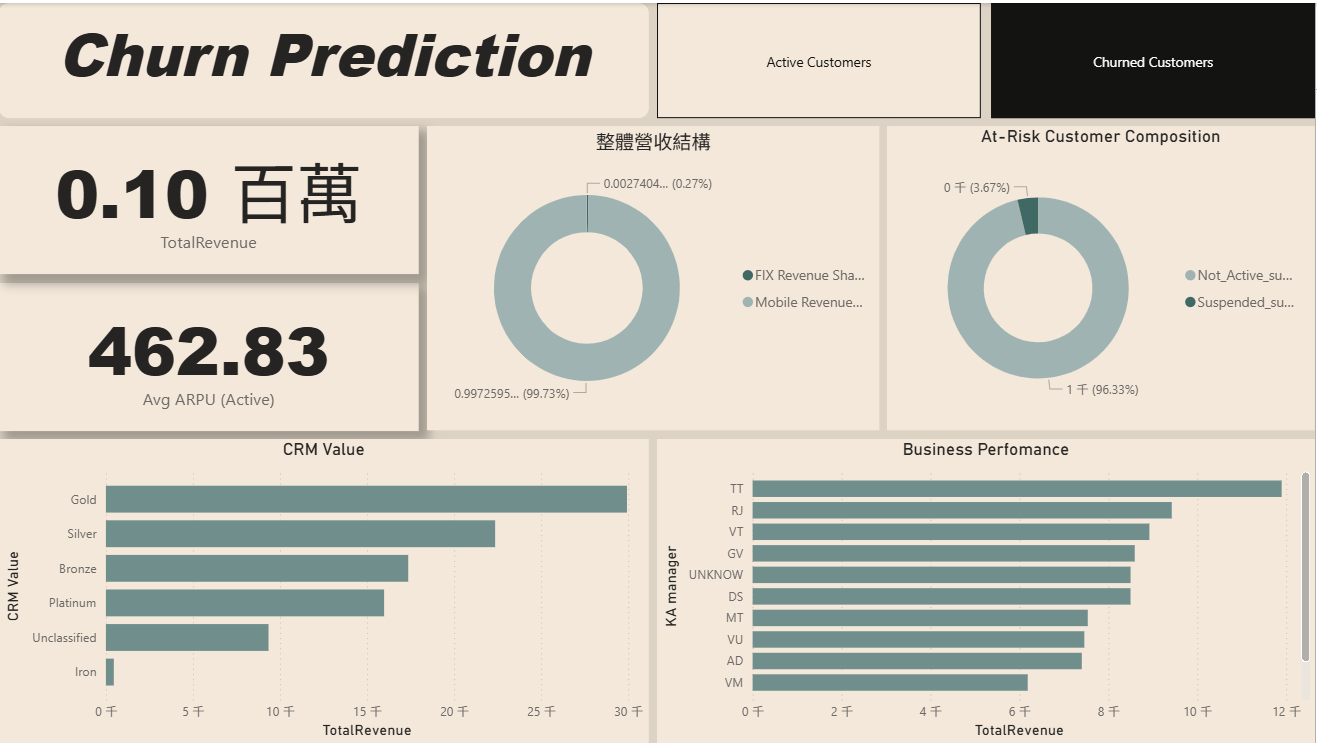

The dashboard page shown, as its layout file describes it:
{"tool":"powerbi","page":{"name":"Churned Customers","canvas":[1280,720],"ordinal":1},"visuals":[{"type":"pageNavigator","box":[640,0,640,112],"z":0},{"type":"card","fields":{"Values":["prepare_drop2.Avg ARPU (Active)"]},"box":[0,272,408,144],"z":1000},{"type":"actionButton","box":[0,0,100,40],"z":2000},{"type":"card","fields":{"Values":["Sum(prepare_drop2.TotalRevenue)"]},"box":[0,120,408,144],"z":3000},{"type":"barChart","title":"CRM Value","fields":{"Category":["prepare_drop2.CRM_PID_Value_Segment"],"Y":["Sum(prepare_drop2.TotalRevenue)"]},"box":[0,424,632,296],"z":4000},{"type":"clusteredBarChart","title":"Business Perfomance","fields":{"Y":["Sum(prepare_drop2.TotalRevenue)"],"Category":["prepare_drop2.KA_name"]},"box":[640,424,640,296],"z":5000},{"type":"textbox","box":[0,0,632,112],"z":6000},{"type":"donutChart","title":"At-Risk Customer Composition","fields":{"Y":["Sum(prepare_drop2.Not_Active_subscribers)","Sum(prepare_drop2.Suspended_subscribers)"]},"box":[864,120,416,296],"z":7000},{"type":"donutChart","title":"整體營收結構","fields":{"Y":["prepare_drop2.FIX Revenue Share","prepare_drop2.Mobile Revenue Share"]},"box":[416,120,440,296],"z":8000}]}

Visuals, with their boxes in screenshot pixels (x1, y1, x2, y2), scaled from the page's 1280x720 canvas onto the 1317x743 screenshot:
pageNavigator: l=658, t=0, r=1316, b=116
card - prepare_drop2.Avg ARPU (Active): l=0, t=281, r=420, b=429
actionButton: l=0, t=0, r=103, b=41
card - Sum(prepare_drop2.TotalRevenue): l=0, t=124, r=420, b=272
"CRM Value" barChart: l=0, t=438, r=650, b=742
"Business Perfomance" clusteredBarChart: l=658, t=438, r=1316, b=742
textbox: l=0, t=0, r=650, b=116
"At-Risk Customer Composition" donutChart: l=889, t=124, r=1316, b=429
"整體營收結構" donutChart: l=428, t=124, r=881, b=429
